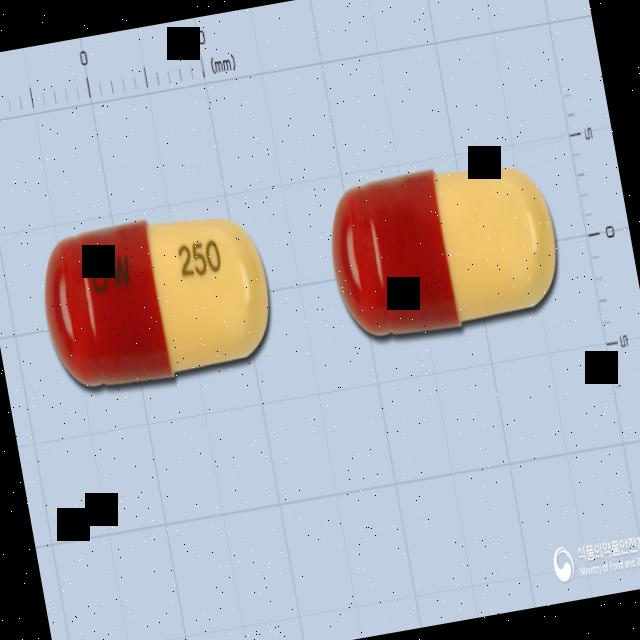Gomcillin Cap: (32, 200, 282, 400), (320, 154, 570, 354)
